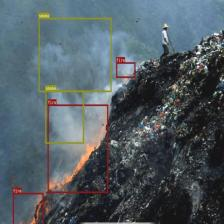fire: (47, 104, 108, 193), (12, 192, 44, 224), (116, 62, 135, 78)
smoke: (38, 18, 111, 92), (45, 90, 84, 144)
